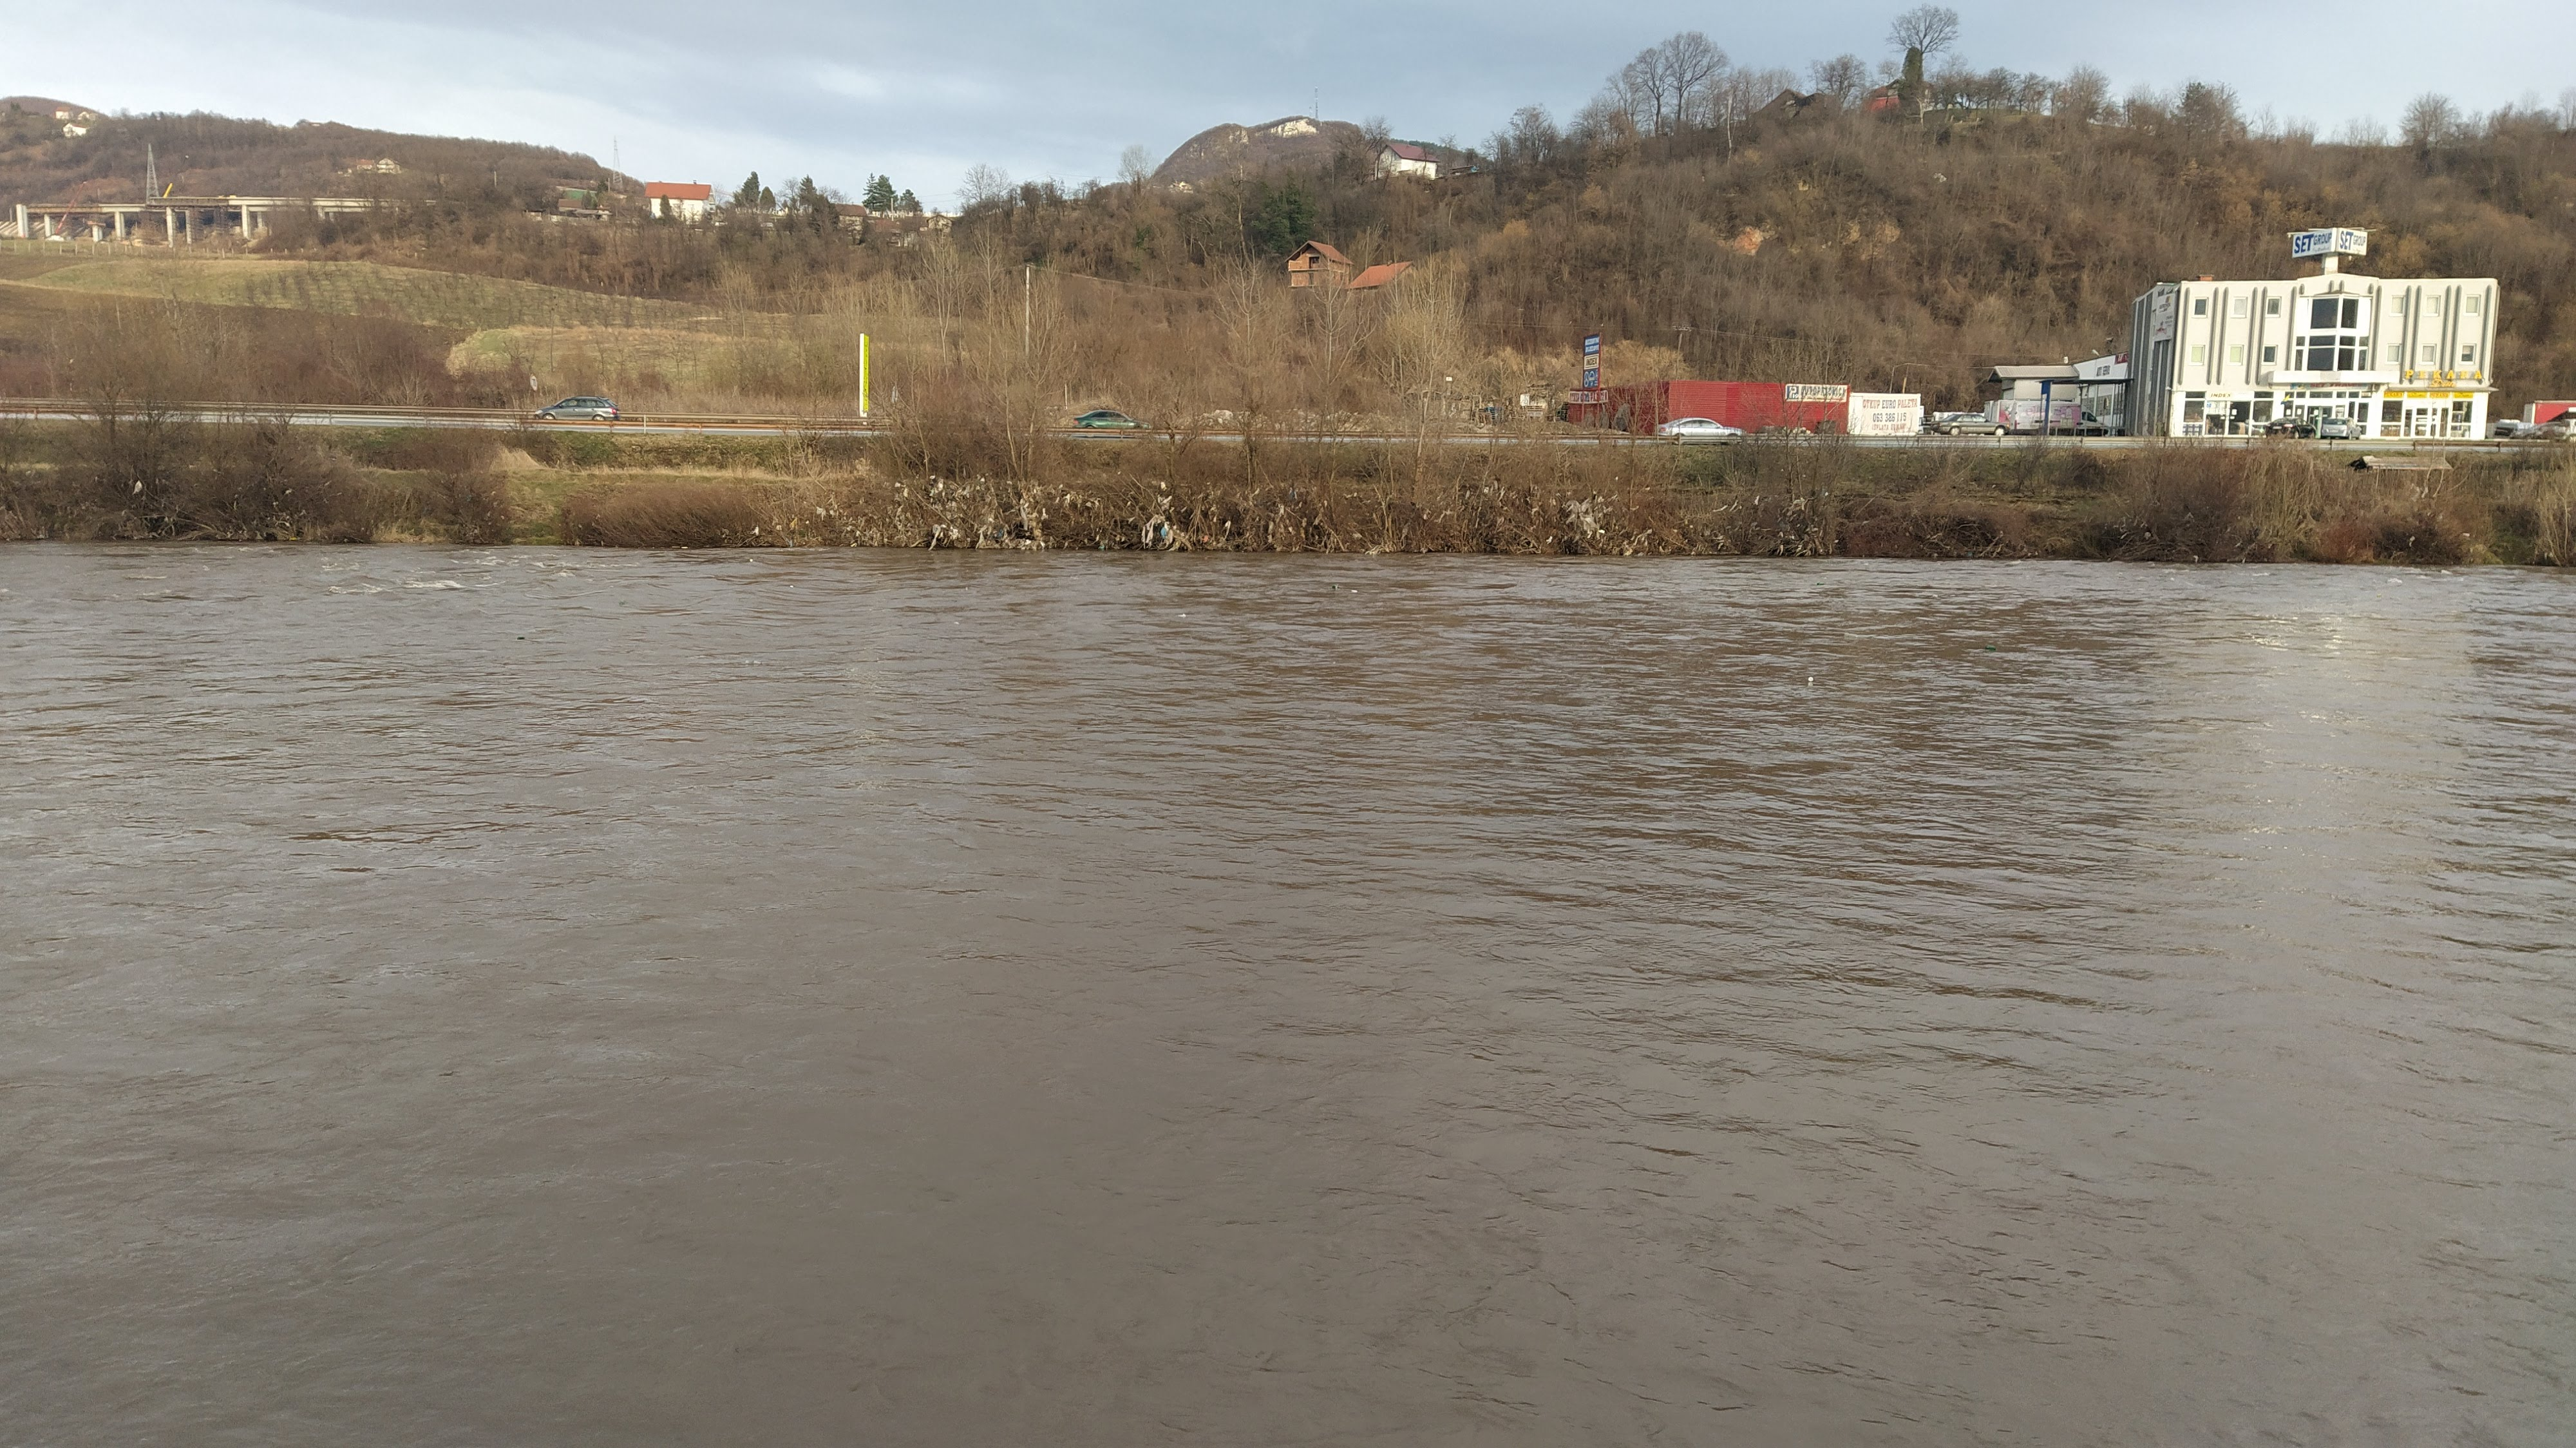Plastic Bottle: (1844, 632, 1858, 639), (745, 660, 761, 666), (1983, 646, 1996, 651), (1330, 584, 1339, 589), (1808, 676, 1813, 682), (517, 637, 522, 639), (1817, 582, 1822, 584)
